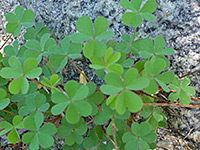oxalis: (25, 10, 175, 150)
